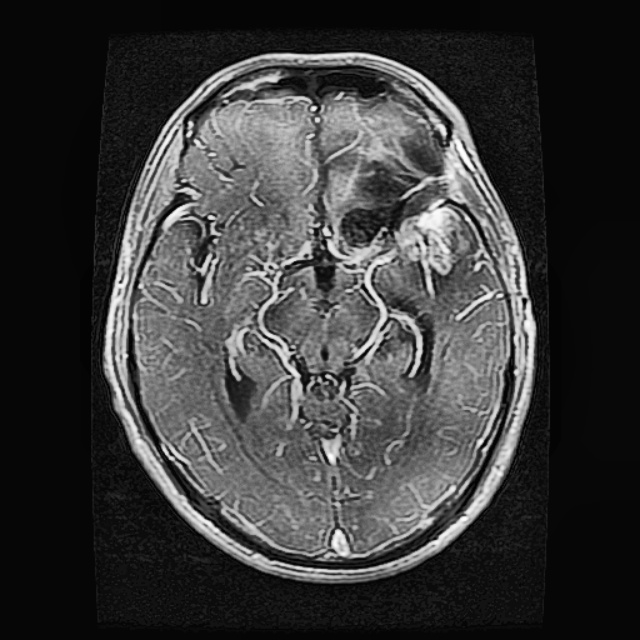Meningioma: (327, 98, 482, 274)
